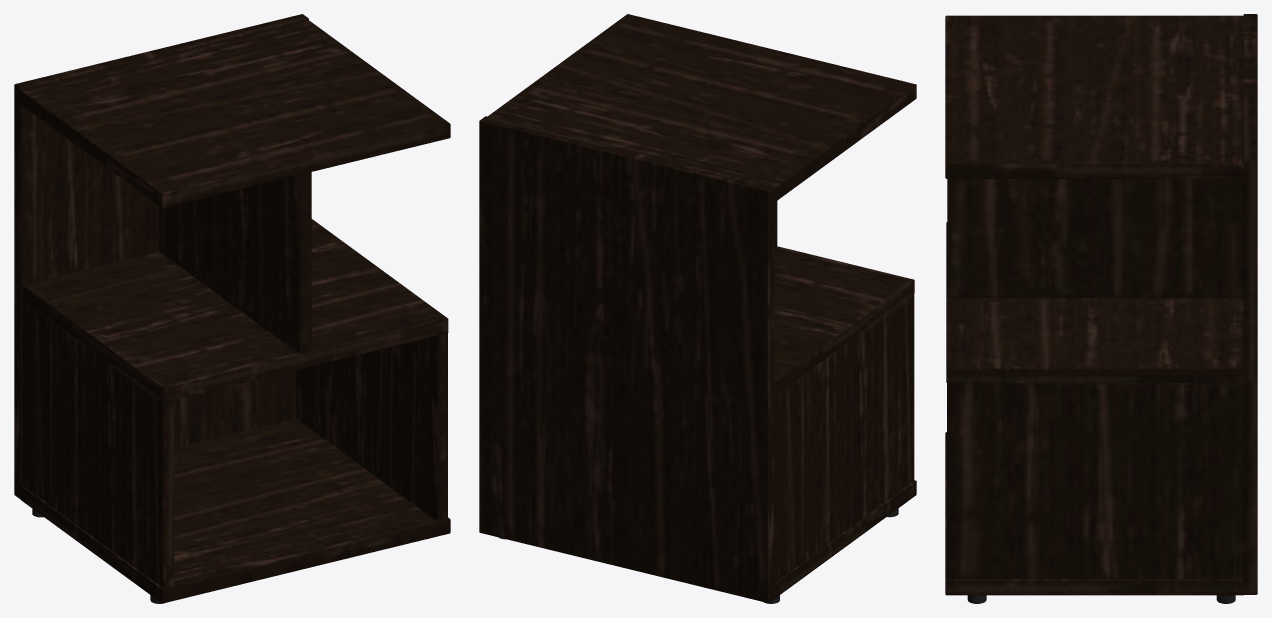
The model's file is B07L1DPX3Q.glb.
3 renders of one model, left to right at view 1: azimuth 30°, elevation 25°; view 2: azimuth 150°, elevation 25°; view 3: azimuth 270°, elevation 25°, orthographic. The views are drawn at different scales.
Visible parts, largest first — view 1: RootNode; view 2: RootNode; view 3: RootNode.
Boxes of the visible parts, box(x1,y1,x2,y2) form: RootNode: box(14, 14, 450, 603); RootNode: box(479, 14, 916, 603); RootNode: box(945, 14, 1257, 603).
Size of the model in its own units: 0.4 by 0.5588 by 0.3556.
Materials: 1 (1 with a texture image).
